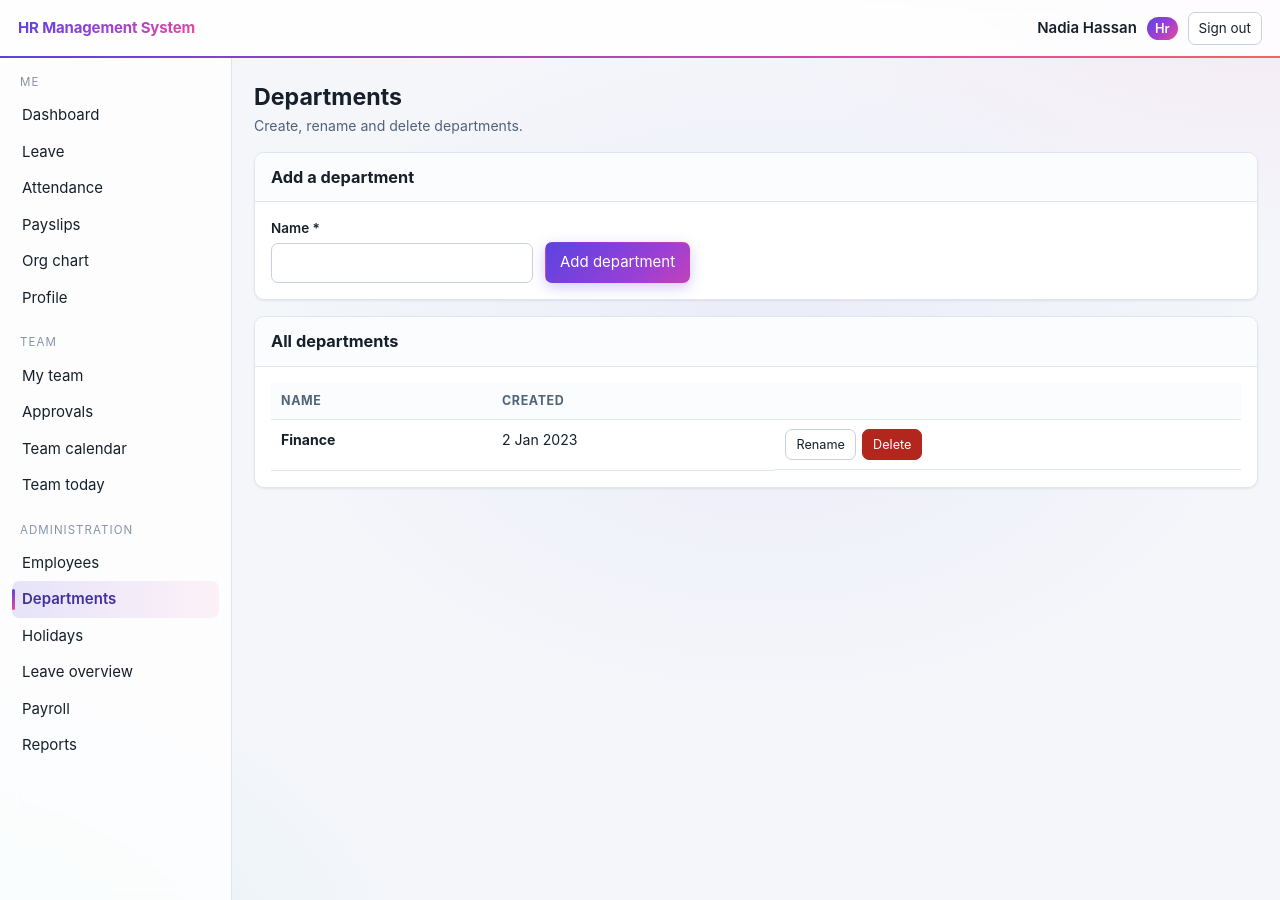
Test: departments › shows the 409 message when the department still has employees
Click the button with aria-label "Delete Finance".
click(892, 445)  # box [862,429,922,460]
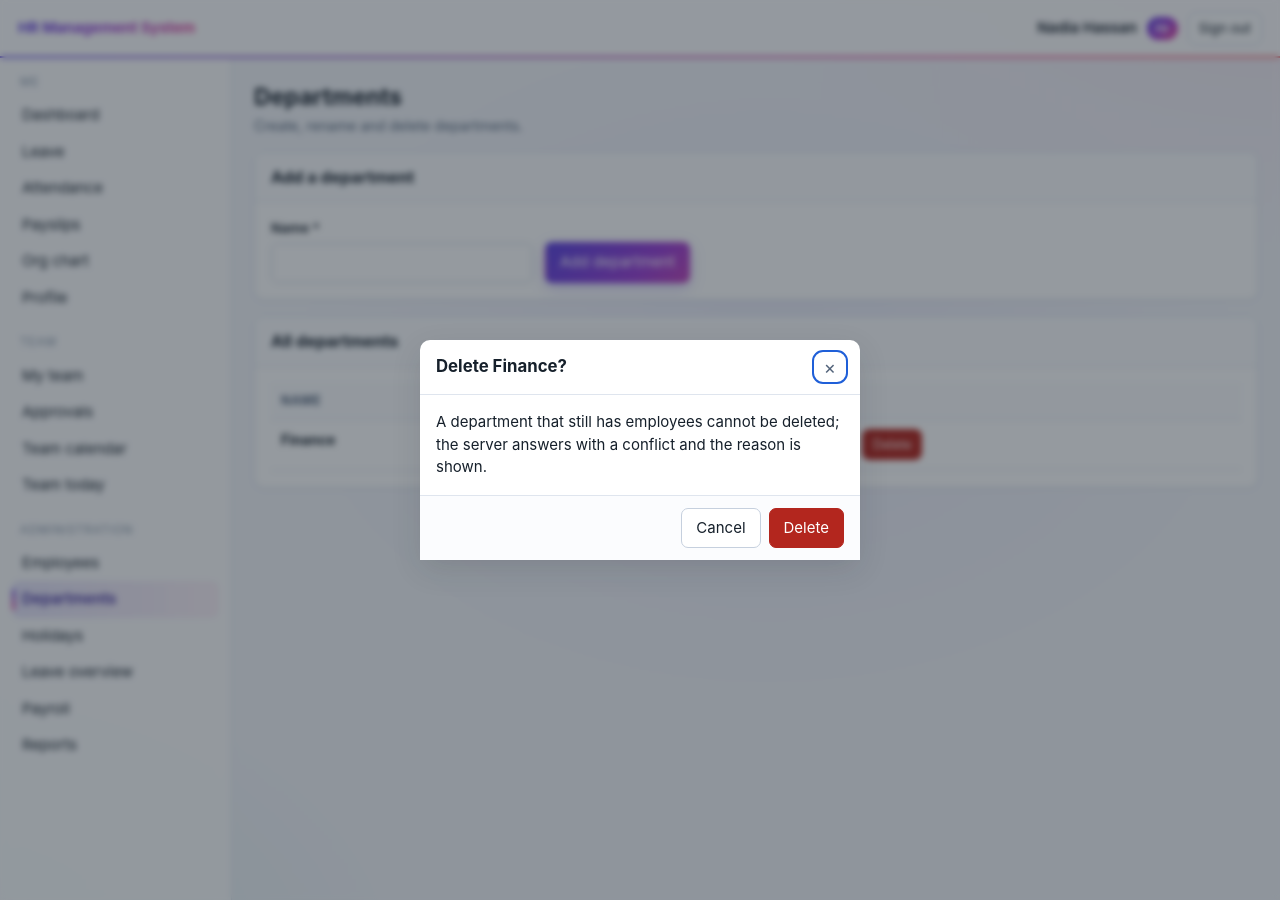
Click the button "Delete".
click(806, 528)  # box [768,508,844,548]
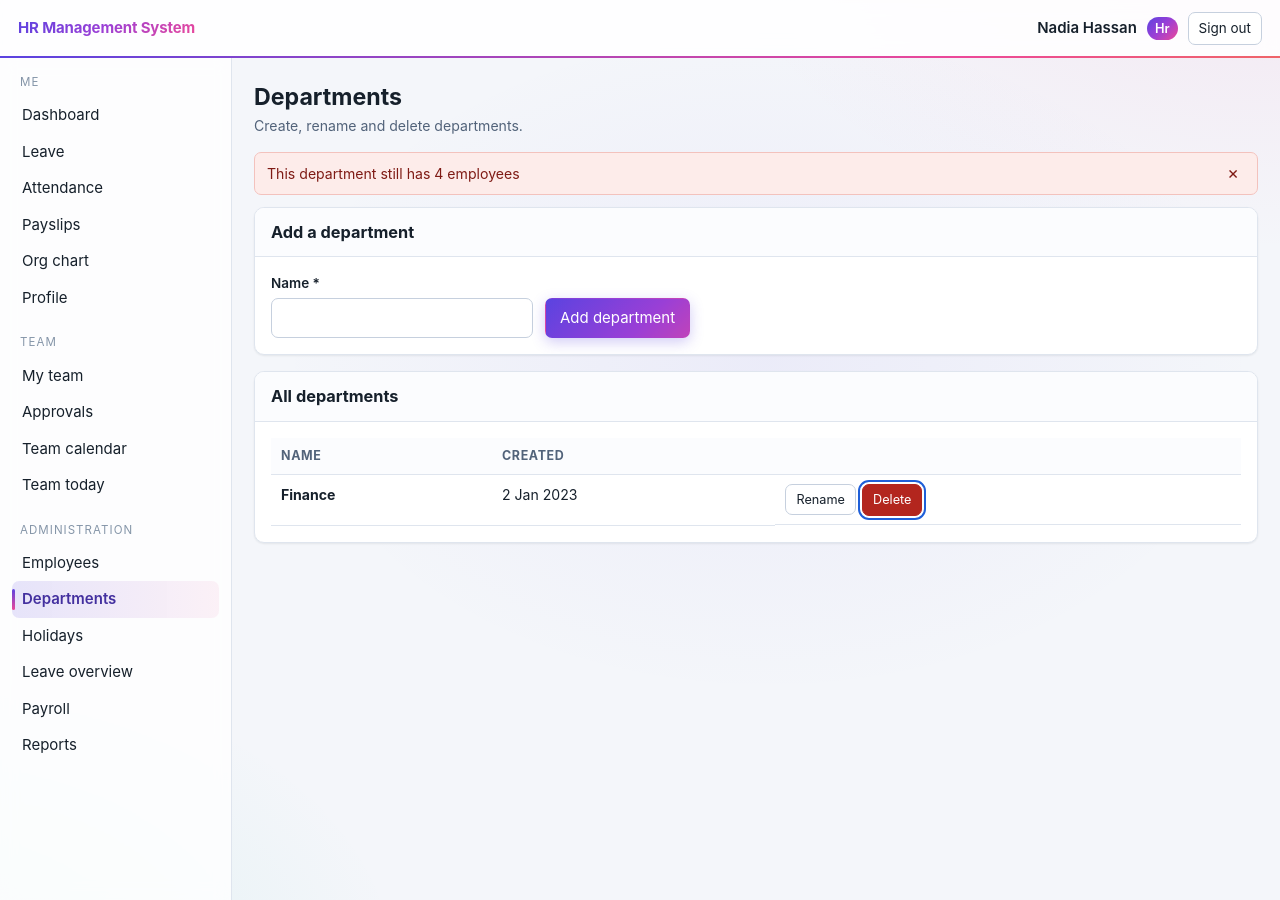
Expected: the row "Finance 2 Jan 2023 Rename Delete" is shown, [271,476,1241,526]
Expected: the message shows "This department still has 4 employees", [267,165,520,182]
